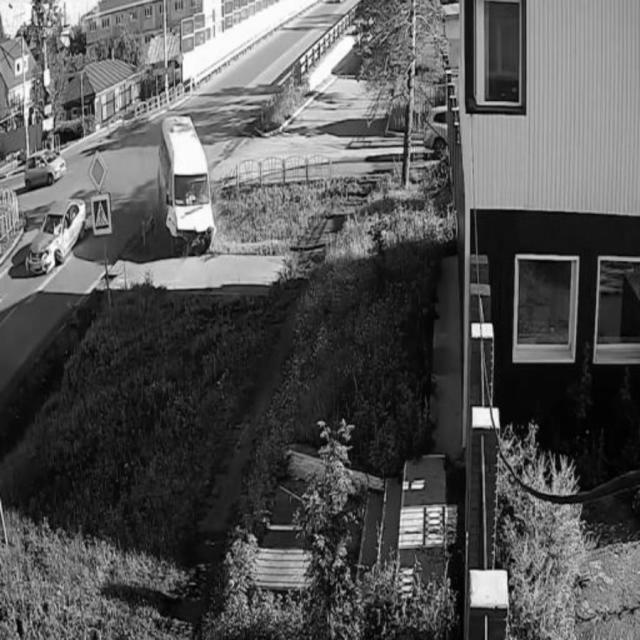vehicle: (163, 119, 218, 245), (25, 202, 89, 274), (19, 152, 69, 186)
